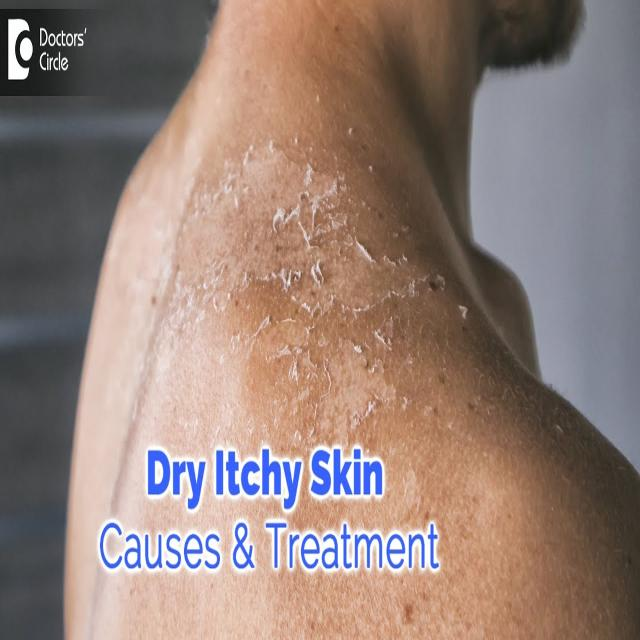Dry-Skin: (124, 164, 439, 431)
